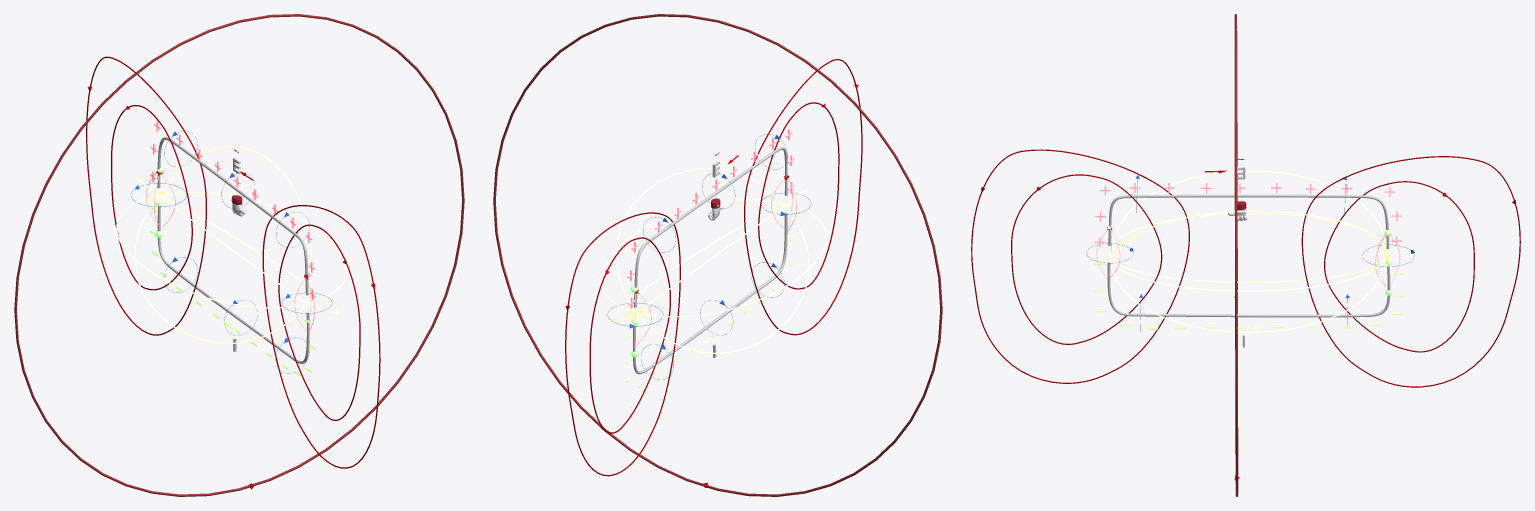
3 renders of one model, left to right at view 1: azimuth 30°, elevation 25°; view 2: azimuth 150°, elevation 25°; view 3: azimuth 270°, elevation 25°, orthographic. The views are drawn at different scales.
Parts seen in each view (by area): view 1: BezierCircle.009, BezierCircle.016, BezierCurve.009, NurbsCircle.006, NurbsCircle.007, BezierCurve, NurbsCircle.004, NurbsCircle.005, NurbsCircle.003, BezierCurve.016; view 2: BezierCircle.009, BezierCircle.016, BezierCurve.009, NurbsCircle.006, NurbsCircle.007, NurbsCircle.004, BezierCurve, NurbsCircle.005, NurbsCircle.003, BezierCurve.016; view 3: BezierCurve, BezierCircle.009, NurbsCircle.006, BezierCurve.009, NurbsCircle.007, NurbsCircle.004, NurbsCircle.003, BezierCircle.016, NurbsCircle.001.
Part boxes in pixels (bbox=[...]): BezierCircle.009: bbox=[14, 14, 464, 484]; BezierCircle.016: bbox=[15, 30, 463, 496]; BezierCurve.009: bbox=[157, 137, 309, 363]; NurbsCircle.006: bbox=[262, 205, 380, 468]; NurbsCircle.007: bbox=[86, 56, 206, 335]; BezierCurve: bbox=[157, 138, 309, 361]; NurbsCircle.004: bbox=[111, 105, 192, 290]; NurbsCircle.005: bbox=[278, 224, 360, 420]; NurbsCircle.003: bbox=[86, 64, 206, 335]; BezierCurve.016: bbox=[134, 197, 307, 343]; BezierCircle.009: bbox=[493, 14, 942, 496]; BezierCircle.016: bbox=[493, 14, 942, 494]; BezierCurve.009: bbox=[633, 147, 787, 374]; NurbsCircle.006: bbox=[744, 59, 862, 335]; NurbsCircle.007: bbox=[565, 212, 680, 476]; NurbsCircle.004: bbox=[589, 237, 670, 433]; BezierCurve: bbox=[635, 150, 786, 373]; NurbsCircle.005: bbox=[758, 102, 839, 289]; NurbsCircle.003: bbox=[565, 213, 680, 475]; BezierCurve.016: bbox=[637, 206, 809, 353]; BezierCurve: bbox=[1107, 194, 1388, 317]; BezierCircle.009: bbox=[1234, 14, 1238, 496]; NurbsCircle.006: bbox=[971, 149, 1189, 383]; BezierCurve.009: bbox=[1107, 194, 1390, 317]; NurbsCircle.007: bbox=[1301, 156, 1516, 387]; NurbsCircle.004: bbox=[1324, 181, 1474, 352]; NurbsCircle.003: bbox=[1302, 156, 1520, 386]; BezierCircle.016: bbox=[1235, 14, 1237, 496]; NurbsCircle.001: bbox=[1011, 174, 1162, 344].
Bounding box in the file's own units: 3.93 × 3.94 × 4.47.
